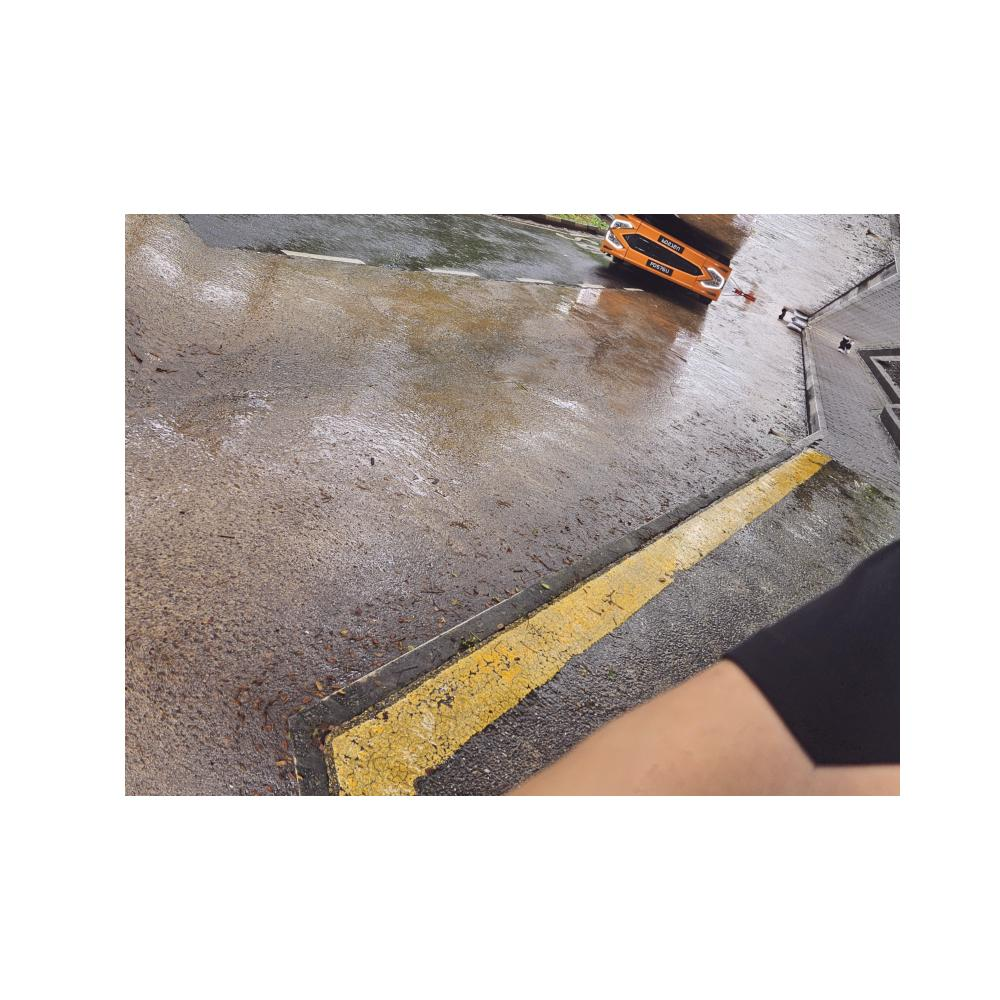bus: (597, 215, 735, 306)
